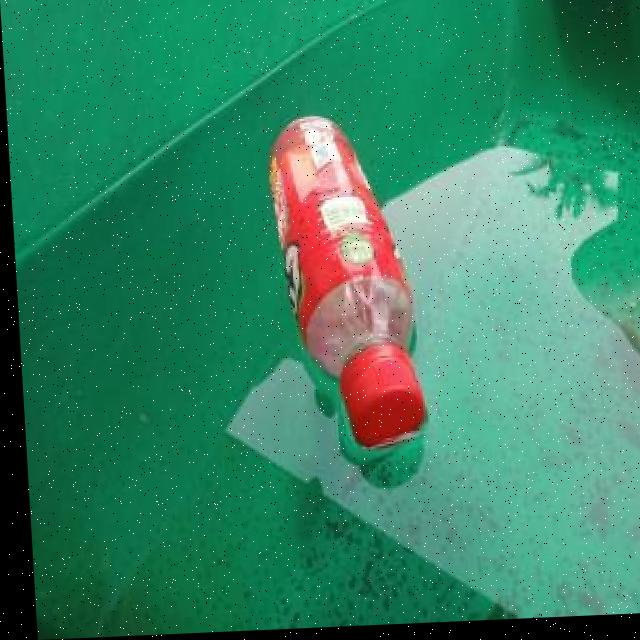bottle: (263, 111, 423, 458)
